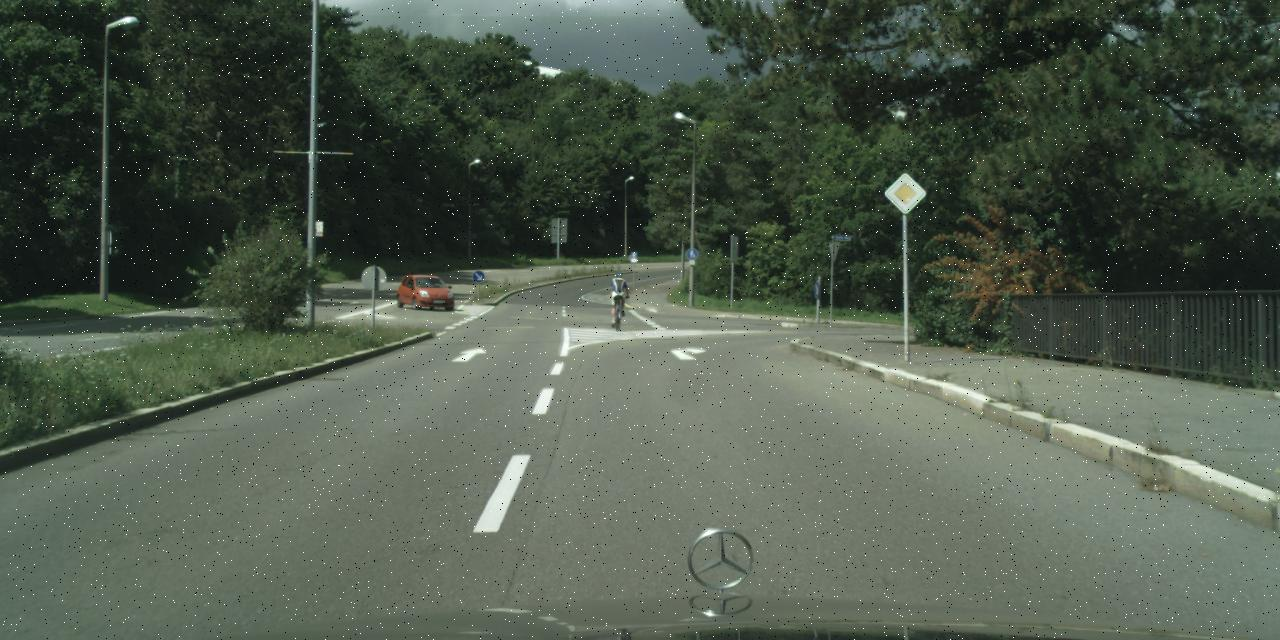ped: (607, 272, 627, 320)
